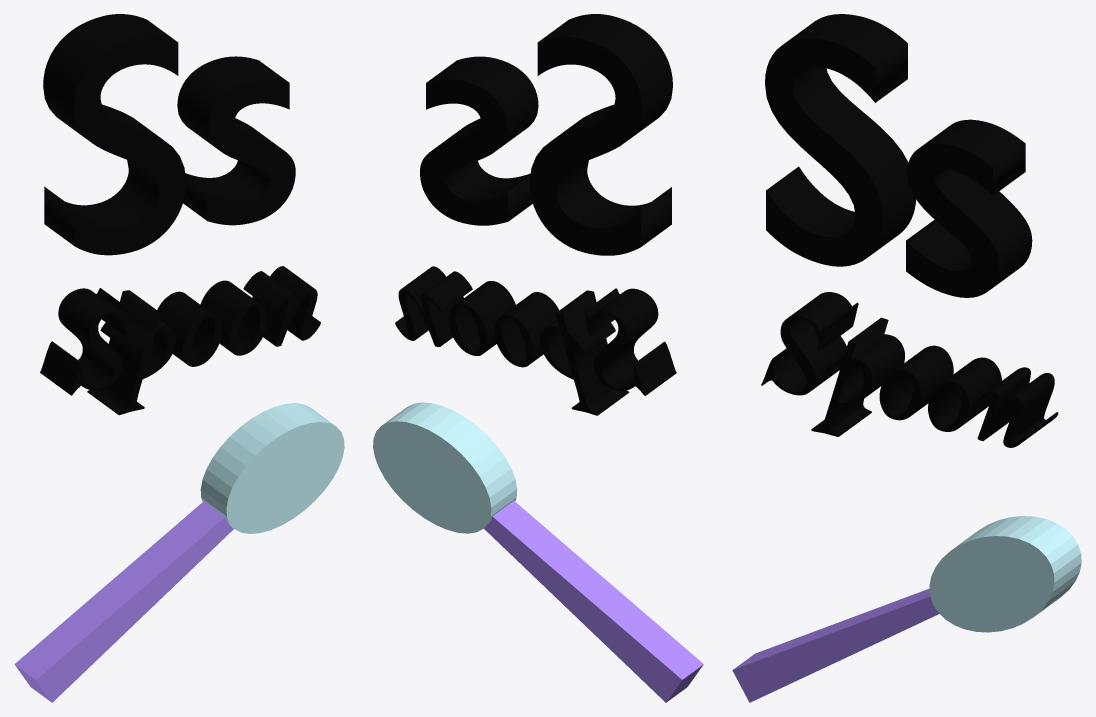
Rendered from Letter_S.glb.
3 renders of one model, left to right at view 1: azimuth 30°, elevation 25°; view 2: azimuth 150°, elevation 25°; view 3: azimuth 330°, elevation 25°, orthographic. The views are drawn at different scales.
Visible parts, largest first — view 1: Text, Text.001, Cylinder, Cube.001; view 2: Text, Text.001, Cylinder, Cube.001; view 3: Text, Text.001, Cylinder, Cube.001.
Boxes of the visible parts, x1,y1,x2,y2 form: Text: (43, 14, 295, 255); Text.001: (40, 266, 320, 415); Cylinder: (200, 403, 344, 533); Cube.001: (14, 501, 233, 702); Text: (420, 14, 672, 255); Text.001: (395, 266, 676, 415); Cylinder: (373, 402, 517, 533); Cube.001: (484, 501, 703, 702); Text: (765, 14, 1032, 297); Text.001: (761, 292, 1058, 447); Cylinder: (929, 516, 1081, 632); Cube.001: (732, 588, 939, 702).
Size of the model in its own units: 0.6861 by 1.39 by 0.1209.
